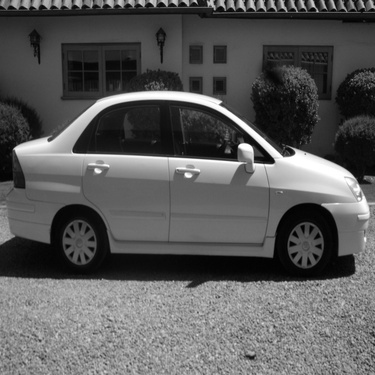car: (6, 85, 372, 268)
